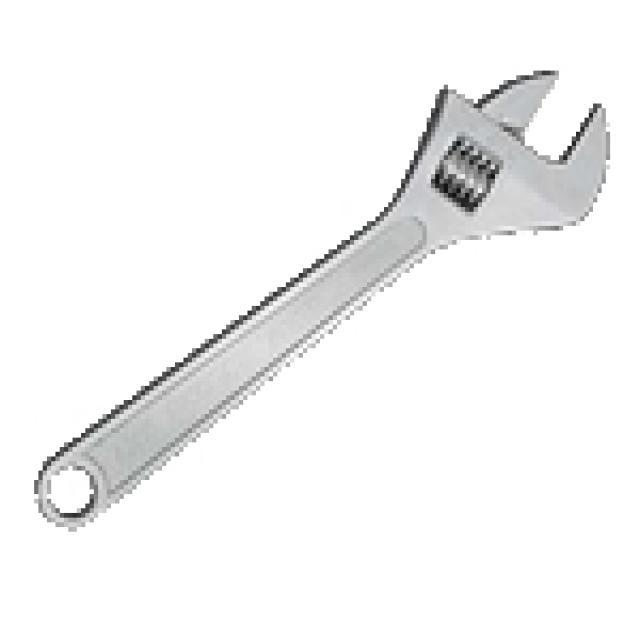wrench: (31, 62, 619, 534)
